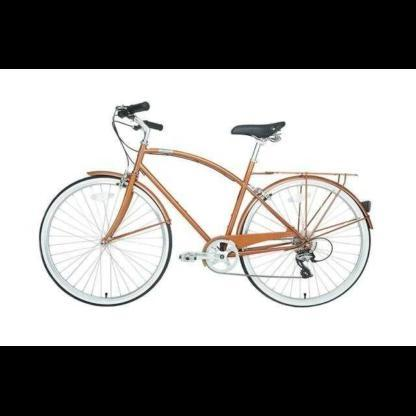Bicycle: (36, 84, 375, 312)
